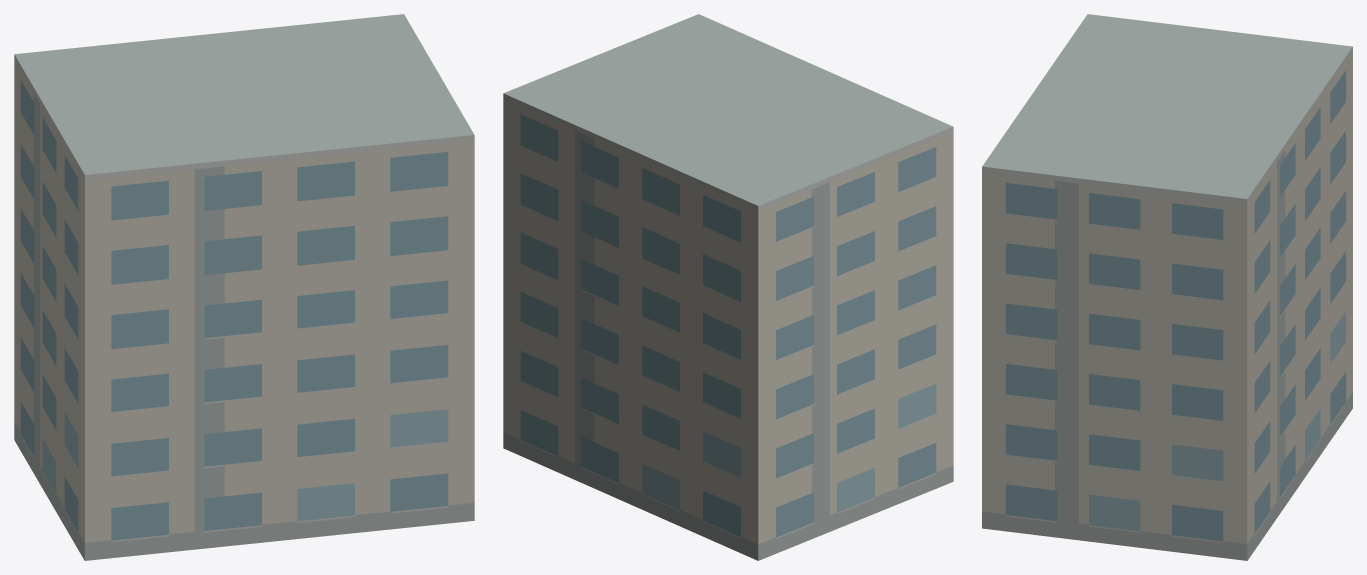
The model's file is survey-upis-32874507.glb.
The picture shows the model from 3 angles, left to right: view 1: azimuth 30°, elevation 25°; view 2: azimuth 150°, elevation 25°; view 3: azimuth 270°, elevation 25°; orthographic projection. The views are drawn at different scales.
Parts seen in each view (by area): view 1: survey-upis-32874507.tmp; view 2: survey-upis-32874507.tmp; view 3: survey-upis-32874507.tmp.
Boxes of the visible parts, bbox=[...] form: survey-upis-32874507.tmp: bbox=[14, 14, 474, 560]; survey-upis-32874507.tmp: bbox=[503, 14, 953, 560]; survey-upis-32874507.tmp: bbox=[982, 14, 1352, 560].
Bounding box in the file's own units: 18.21 × 16.6 × 15.42.
